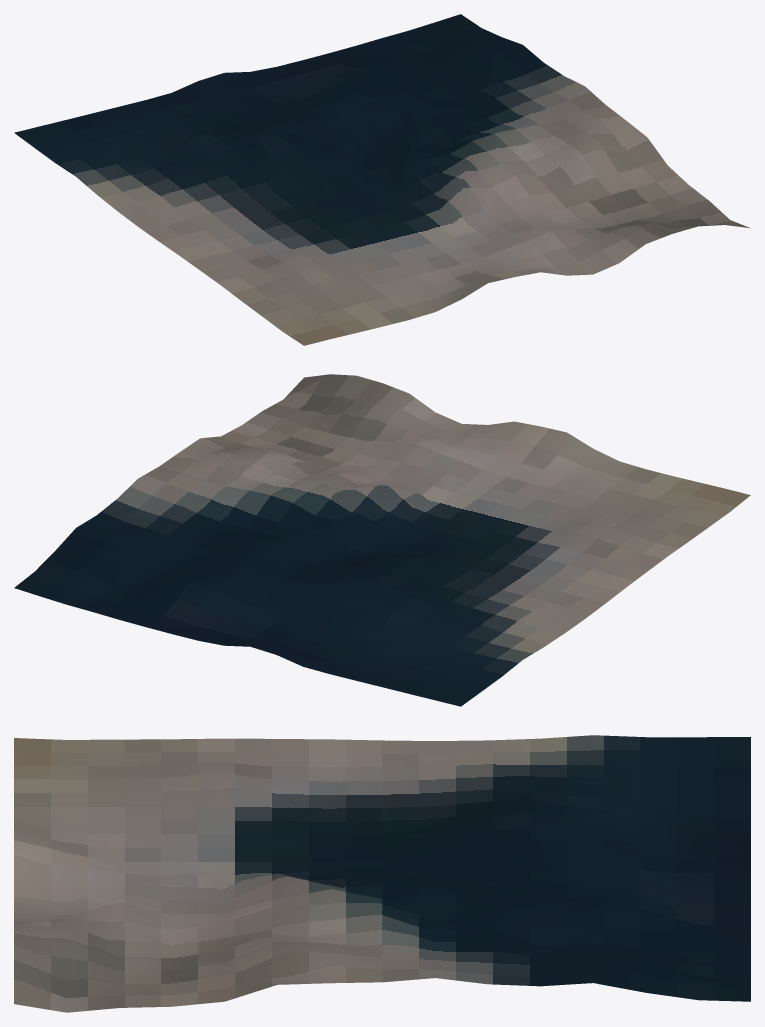
Rendered from chaiten.gltf.
3 renders of one model, top to bottom at view 1: azimuth 30°, elevation 25°; view 2: azimuth 150°, elevation 25°; view 3: azimuth 270°, elevation 25°, orthographic. The views are drawn at different scales.
Parts seen in each view (by area): view 1: TerrainNode.001; view 2: TerrainNode.001; view 3: TerrainNode.001.
Part boxes in pixels (bbox=[...]): TerrainNode.001: bbox=[14, 14, 750, 345]; TerrainNode.001: bbox=[14, 374, 750, 706]; TerrainNode.001: bbox=[14, 735, 750, 1012].
Bounding box in the file's own units: 7.28 × 0.4908 × 8.18.
1 material, 1 textured.
